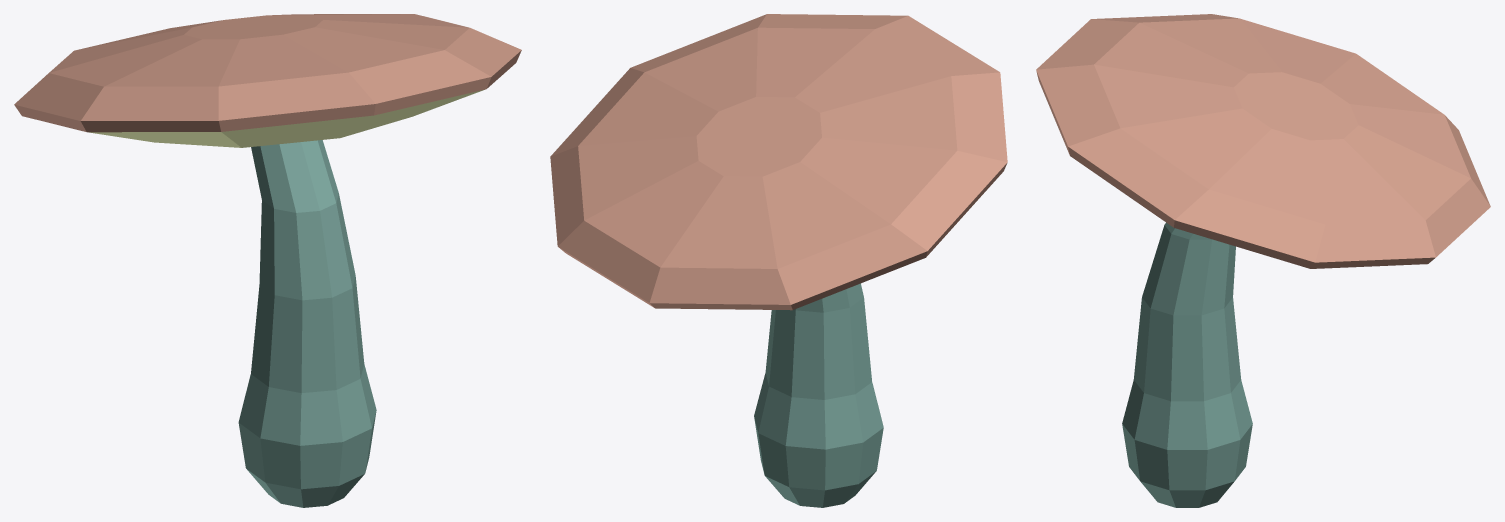
File: mushroom5.fbx
3 renders of one model, left to right at view 1: azimuth 30°, elevation 25°; view 2: azimuth 150°, elevation 25°; view 3: azimuth 270°, elevation 25°, orthographic. The views are drawn at different scales.
Parts seen in each view (by area): view 1: Cylinder; view 2: Cylinder; view 3: Cylinder.
Boxes of the visible parts, <box> form: Cylinder: <box>14,14,521,507</box>; Cylinder: <box>550,14,1007,507</box>; Cylinder: <box>1036,14,1490,507</box>.
Size of the model in its own units: 1012 by 1028 by 999.
